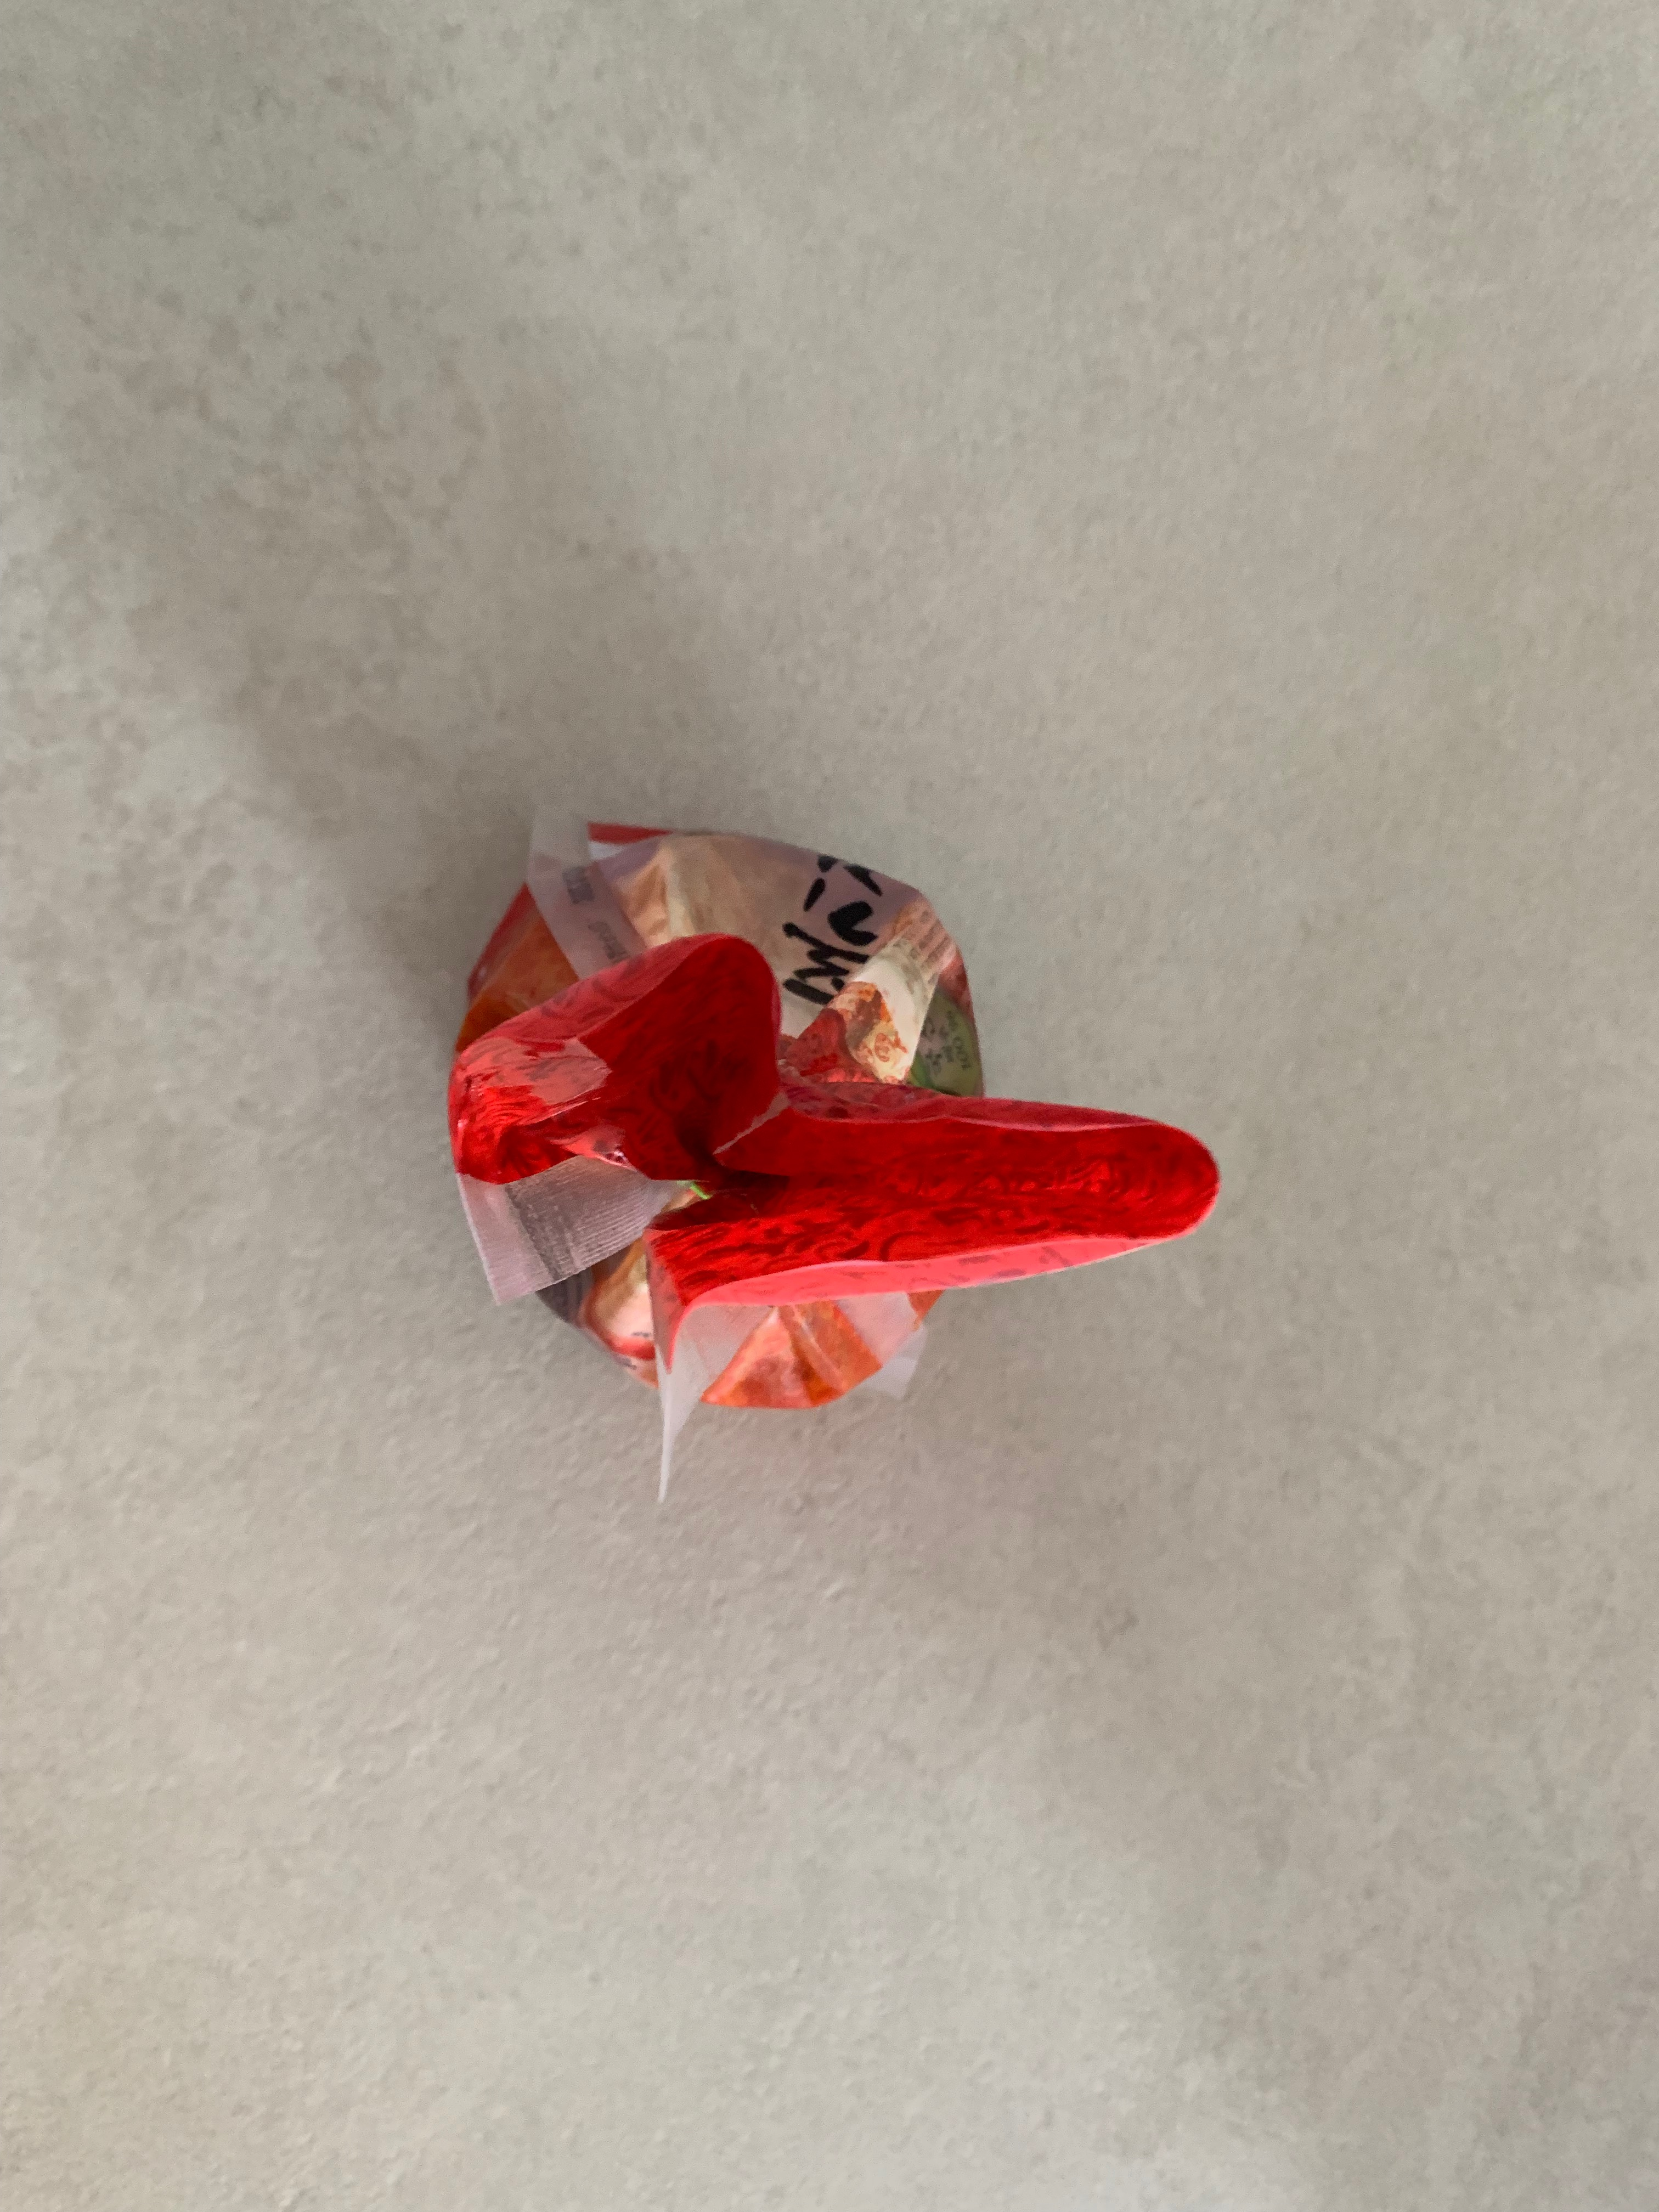kimchi: (446, 820, 1222, 1411)
